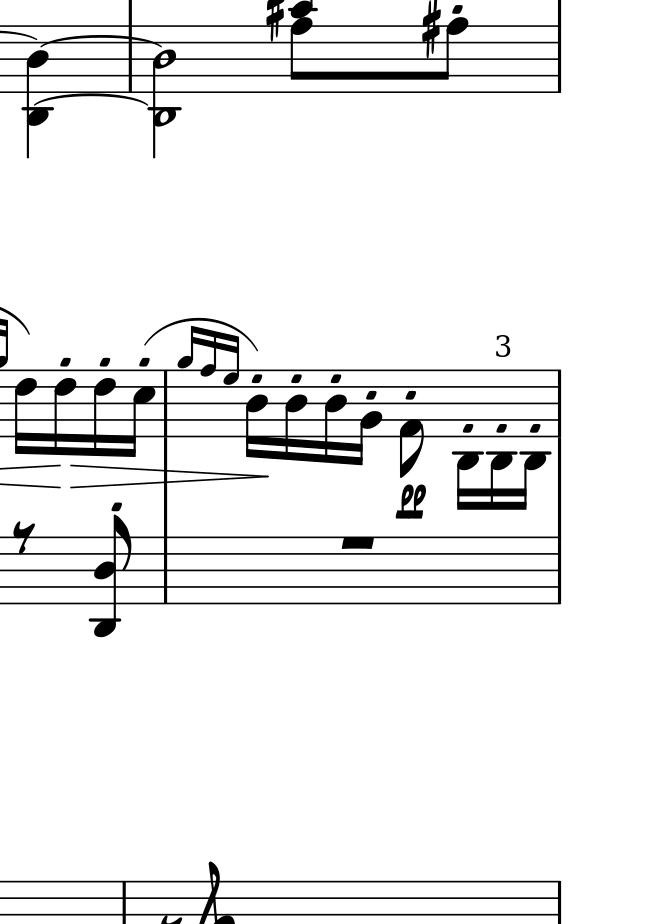16_-3: (453, 368, 483, 513), (484, 367, 514, 512), (515, 366, 545, 511)
16_2: (353, 370, 381, 465)
16_4: (283, 370, 309, 464), (322, 370, 347, 467), (244, 370, 268, 461)
16_5: (122, 369, 157, 461)
16_6: (51, 366, 77, 457), (91, 366, 116, 457), (13, 366, 38, 456)
2_-3_4: (149, 22, 180, 157)
3: (495, 333, 511, 359)
4_-3_4: (23, 24, 54, 159)
8_-3_4: (92, 513, 134, 638)
8_1: (399, 369, 424, 480)
8_8: (437, 19, 468, 93)
Appoggiature_3: (177, 324, 242, 438)
Diminuendo_hairpin: (70, 462, 273, 489)
Rests1: (338, 533, 379, 553)
Rests8: (12, 520, 37, 555)
Sharp: (421, 1, 442, 58)
Single_barline: (123, 24, 139, 91), (552, 369, 567, 438), (551, 27, 567, 91), (158, 538, 174, 602), (551, 537, 566, 603)
Slur: (40, 34, 166, 48), (36, 93, 150, 106)
pp: (396, 483, 428, 520)
